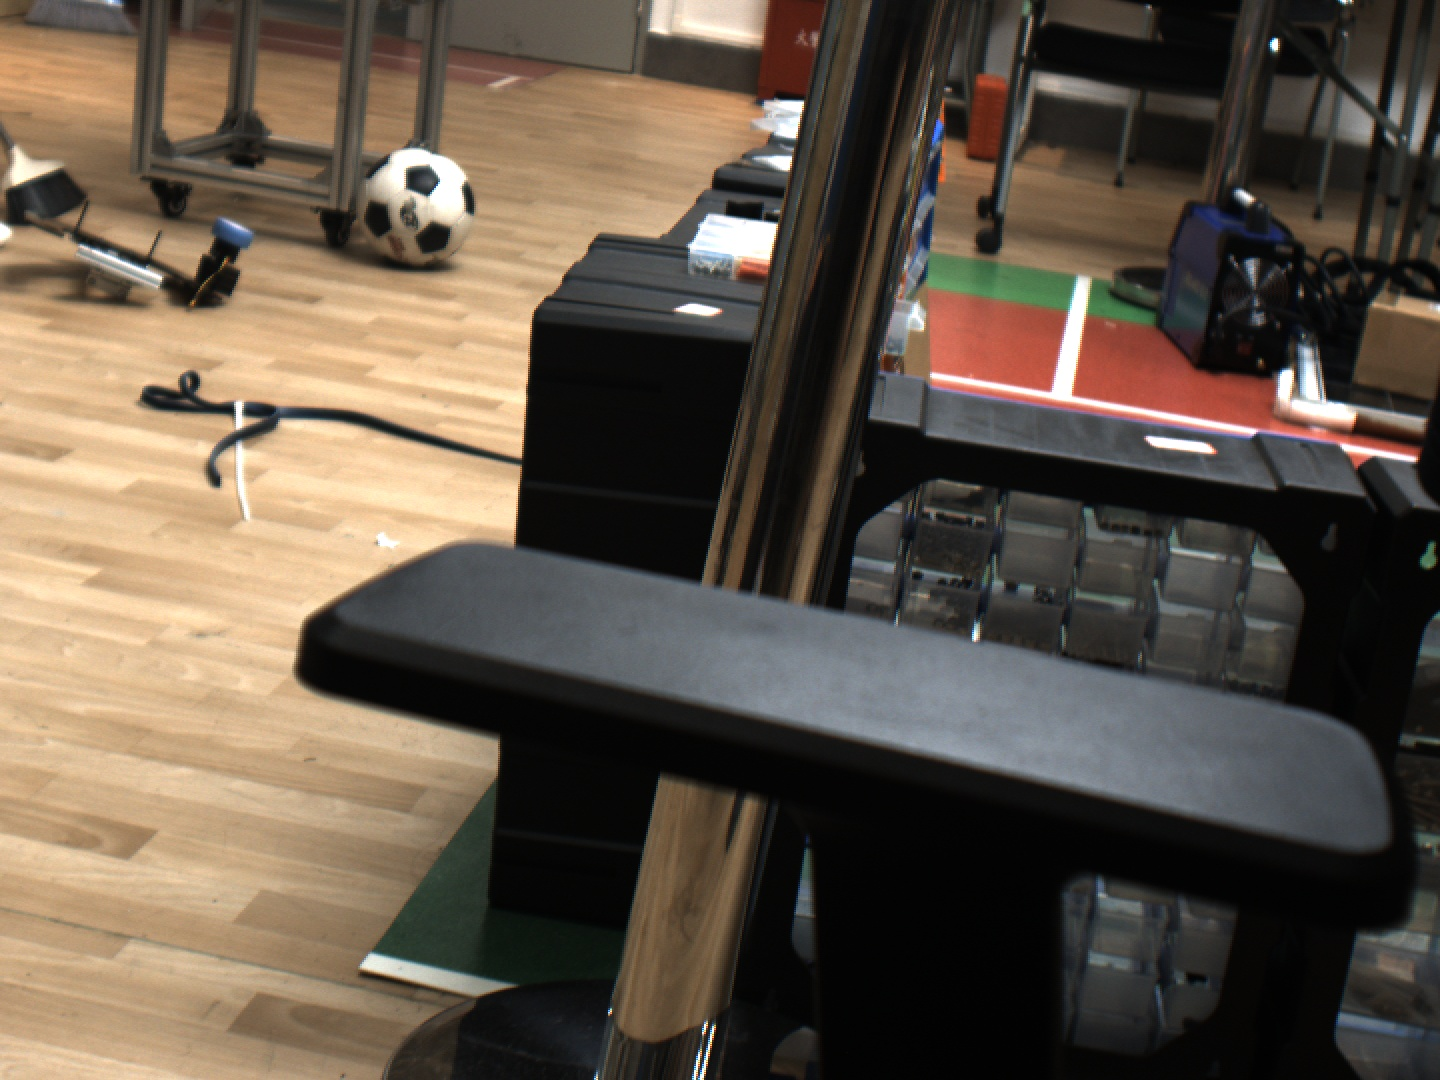ball: (345, 141, 486, 271)
